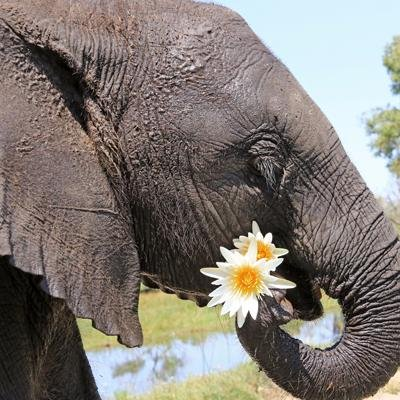elephant: (1, 1, 398, 398)
